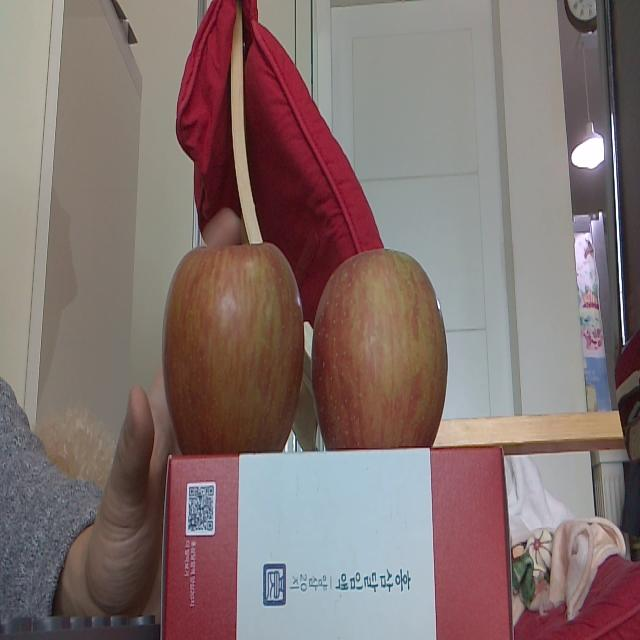apple: (164, 236, 311, 455), (310, 244, 450, 454)
